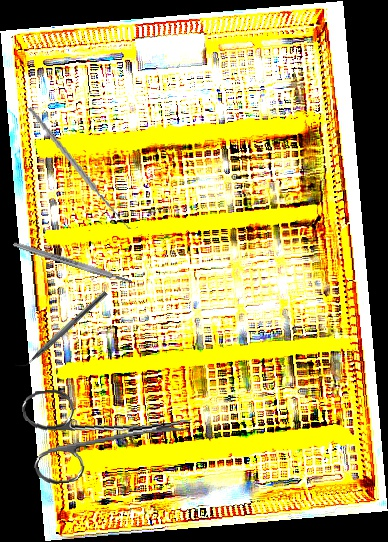Chopper: (14, 285, 108, 374)
Hook Surgical: (27, 93, 139, 243)
Iris Scissors: (20, 375, 198, 487)
Scalpel Handle: (12, 240, 133, 286)
